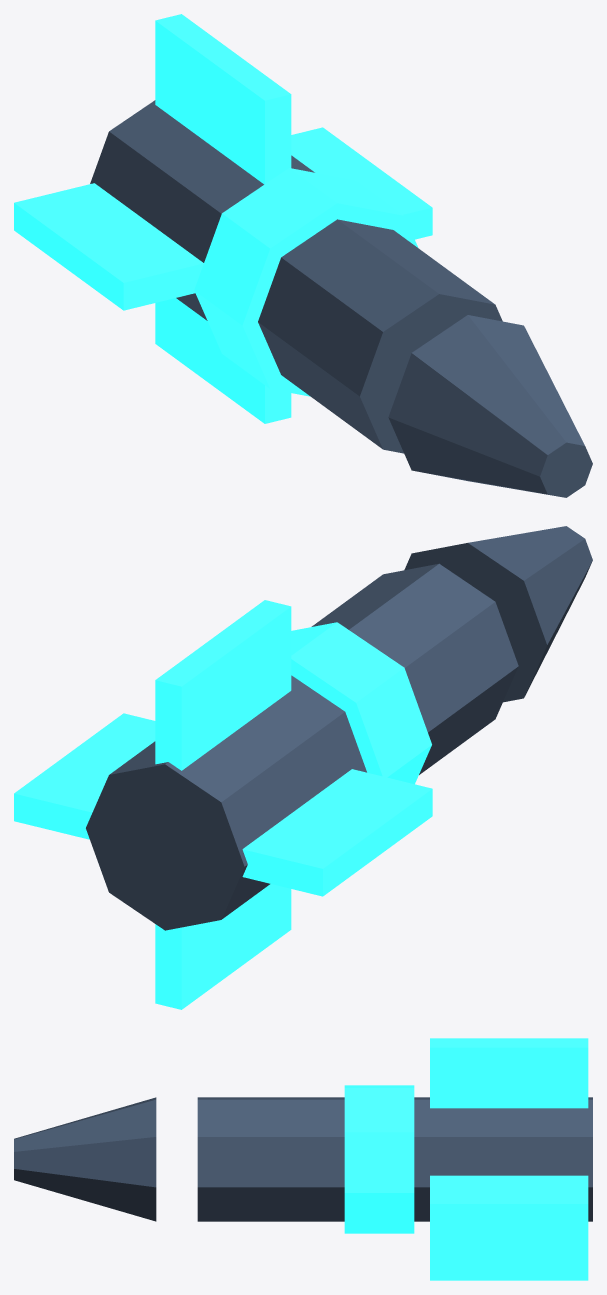
Rendered from flak.glb.
3 renders of one model, top to bottom at view 1: azimuth 30°, elevation 25°; view 2: azimuth 150°, elevation 25°; view 3: azimuth 270°, elevation 25°, orthographic. The views are drawn at different scales.
Parts seen in each view (by area): view 1: flak; view 2: flak; view 3: flak.
Part boxes in pixels (bbox=[...]): flak: bbox=[14, 14, 592, 497]; flak: bbox=[14, 526, 592, 1009]; flak: bbox=[14, 1038, 592, 1280].
Bounding box in the file's own units: 0.8 × 0.8 × 1.8.
